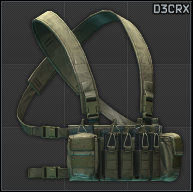Haley Strategic D3CRX Chest Harness: (0, 0, 193, 192)
